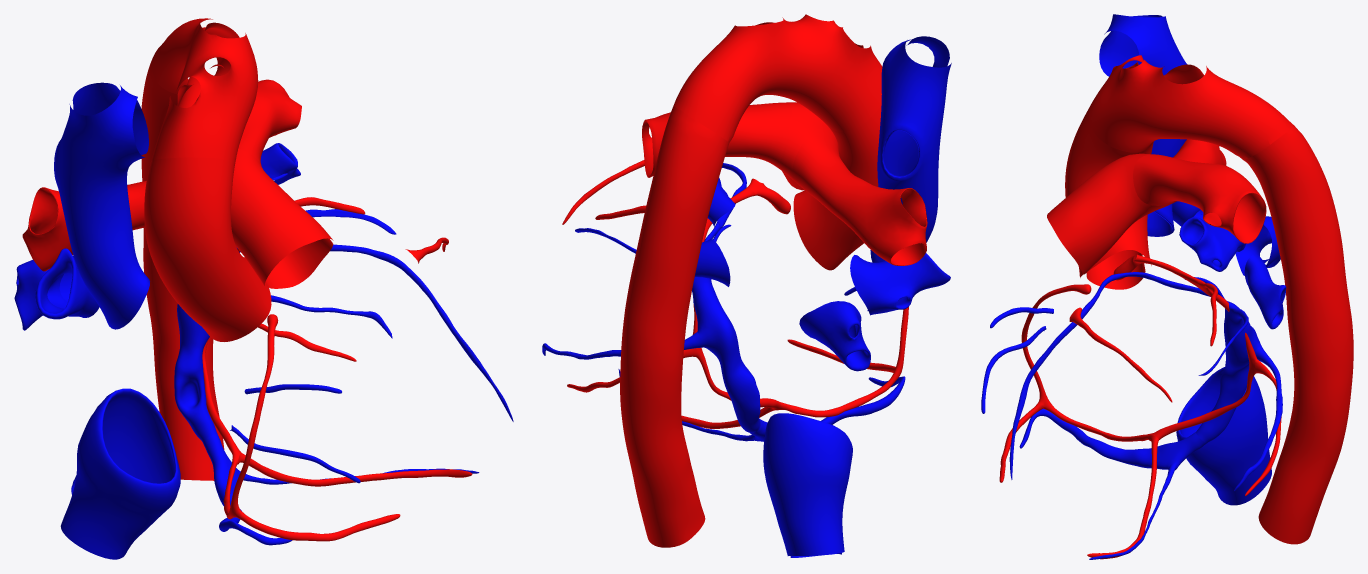
The model's file is cardiac-vessels.glb.
3 renders of one model, left to right at view 1: azimuth 30°, elevation 25°; view 2: azimuth 150°, elevation 25°; view 3: azimuth 270°, elevation 25°, orthographic. The views are drawn at different scales.
Visible parts, largest first — view 1: VH_F_superior_vena_cava, VH_F_ascending_aorta, VH_F_inferior_vena_cava_a, VH_F_aortic_arch, VH_F_pulmonary_trunk, VH_F_descending_aorta_a, VH_F_coronary_sinus, VH_F_pulmonary_artery_R, VH_F_pulmonary_artery_L, VH_F_right_coronary_artery, VH_F_pulmonary_vein_R_sup, VH_F_left_posterior_descending_branch_of_circumflex_branch_o (+9 smaller); view 2: VH_F_descending_aorta_a, VH_F_aortic_arch, VH_F_inferior_vena_cava_a, VH_F_superior_vena_cava, VH_F_pulmonary_artery_R, VH_F_ascending_aorta, VH_F_coronary_sinus, VH_F_pulmonary_artery_L, VH_F_pulmonary_vein_R_sup, VH_F_pulmonary_vein_R_inf, VH_F_right_coronary_artery, VH_F_pulmonary_trunk (+8 smaller); view 3: VH_F_descending_aorta_a, VH_F_aortic_arch, VH_F_pulmonary_artery_L, VH_F_inferior_vena_cava_a, VH_F_pulmonary_trunk, VH_F_superior_vena_cava, VH_F_ascending_aorta, VH_F_coronary_sinus, VH_F_right_coronary_artery, VH_F_pulmonary_vein_L_sup, VH_F_small_cardiac_vein, VH_F_great_cardiac_vein (+12 smaller).
Part boxes in pixels (<box>): VH_F_superior_vena_cava: <box>54,82,149,329</box>; VH_F_ascending_aorta: <box>144,157,271,341</box>; VH_F_inferior_vena_cava_a: <box>60,388,180,559</box>; VH_F_aortic_arch: <box>151,18,258,165</box>; VH_F_pulmonary_trunk: <box>231,149,333,288</box>; VH_F_descending_aorta_a: <box>141,47,224,480</box>; VH_F_coronary_sinus: <box>174,251,240,476</box>; VH_F_pulmonary_artery_R: <box>22,181,146,271</box>; VH_F_pulmonary_artery_L: <box>238,79,301,165</box>; VH_F_right_coronary_artery: <box>202,314,278,519</box>; VH_F_pulmonary_vein_R_sup: <box>35,248,99,319</box>; VH_F_left_posterior_descending_branch_of_circumflex_branch_o: <box>238,452,472,486</box>; VH_F_descending_aorta_a: <box>620,106,729,547</box>; VH_F_aortic_arch: <box>673,14,882,142</box>; VH_F_inferior_vena_cava_a: <box>763,413,852,557</box>; VH_F_superior_vena_cava: <box>870,36,951,262</box>; VH_F_pulmonary_artery_R: <box>792,132,927,265</box>; VH_F_ascending_aorta: <box>793,106,881,270</box>; VH_F_coronary_sinus: <box>692,277,767,441</box>; VH_F_pulmonary_artery_L: <box>642,102,791,177</box>; VH_F_pulmonary_vein_R_sup: <box>850,253,950,315</box>; VH_F_pulmonary_vein_R_inf: <box>799,301,870,371</box>; VH_F_right_coronary_artery: <box>692,304,908,417</box>; VH_F_pulmonary_trunk: <box>777,102,836,190</box>; VH_F_descending_aorta_a: <box>1243,126,1353,544</box>; VH_F_aortic_arch: <box>1089,55,1294,159</box>; VH_F_pulmonary_artery_L: <box>1133,154,1266,243</box>; VH_F_inferior_vena_cava_a: <box>1176,367,1271,505</box>; VH_F_pulmonary_trunk: <box>1047,153,1176,274</box>; VH_F_superior_vena_cava: <box>1099,14,1186,236</box>; VH_F_ascending_aorta: <box>1065,106,1153,289</box>; VH_F_coronary_sinus: <box>1164,301,1261,469</box>; VH_F_right_coronary_artery: <box>1021,284,1256,441</box>; VH_F_pulmonary_vein_L_sup: <box>1179,216,1245,271</box>; VH_F_small_cardiac_vein: <box>1019,408,1171,469</box>; VH_F_great_cardiac_vein: <box>1009,272,1237,479</box>.
Bounding box in the file's own units: 0.1408 × 0.1767 × 0.1265.
